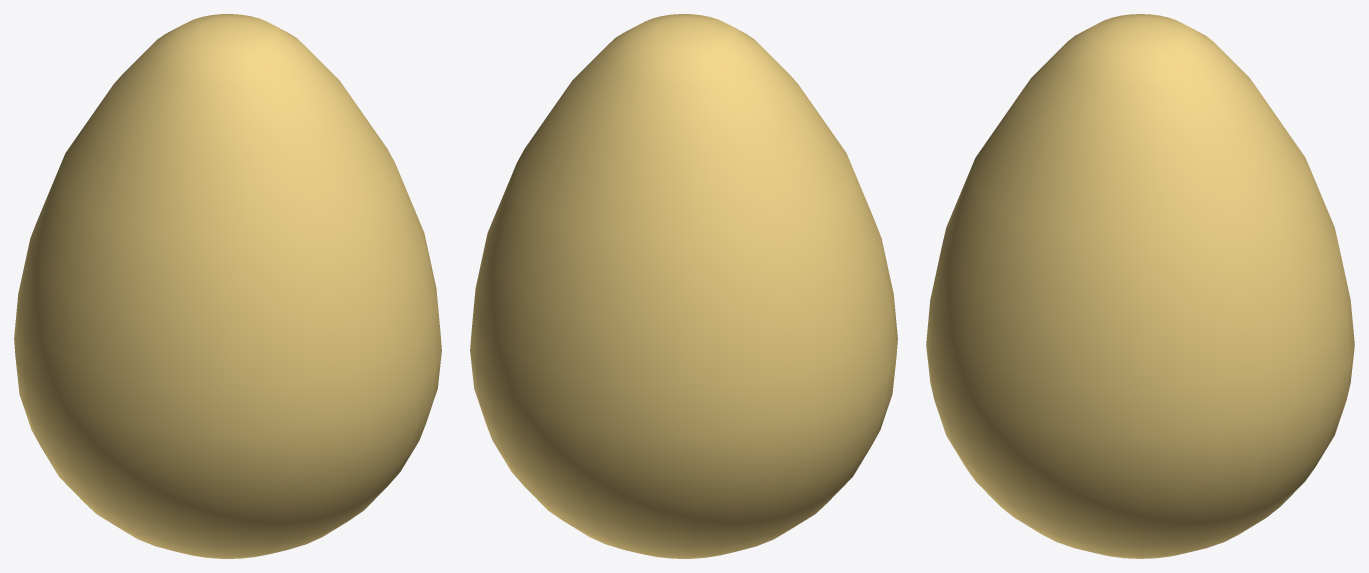
Rendered from egg fbx.FBX.
3 renders of one model, left to right at view 1: azimuth 30°, elevation 25°; view 2: azimuth 150°, elevation 25°; view 3: azimuth 270°, elevation 25°, orthographic.
Visible parts, largest first — view 1: jaje; view 2: jaje; view 3: jaje.
Part boxes in pixels (x1,y1,x2,y2): jaje: (14, 14, 441, 558); jaje: (470, 14, 897, 558); jaje: (926, 14, 1354, 558).
Size of the model in its own units: 1.5 by 1.98 by 1.5.
